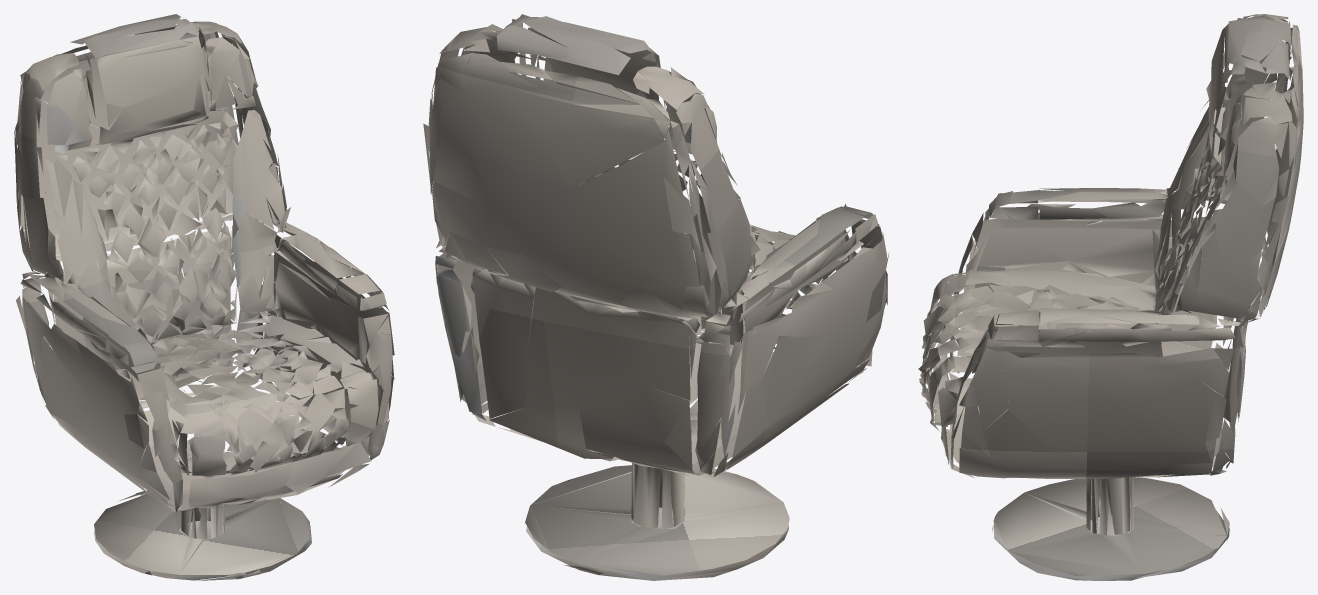
The model's file is jetseat.glb.
3 renders of one model, left to right at view 1: azimuth 30°, elevation 25°; view 2: azimuth 150°, elevation 25°; view 3: azimuth 270°, elevation 25°, orthographic. The views are drawn at different scales.
Parts seen in each view (by area): view 1: LO.001; view 2: LO.001; view 3: LO.001.
Boxes of the visible parts, box(x1,y1,x2,y2) form: LO.001: box(14, 14, 394, 580); LO.001: box(423, 14, 888, 580); LO.001: box(918, 14, 1303, 580).
Bounding box in the file's own units: 1.17 × 1.91 × 1.35.
Materials: 1 (1 with a texture image).
